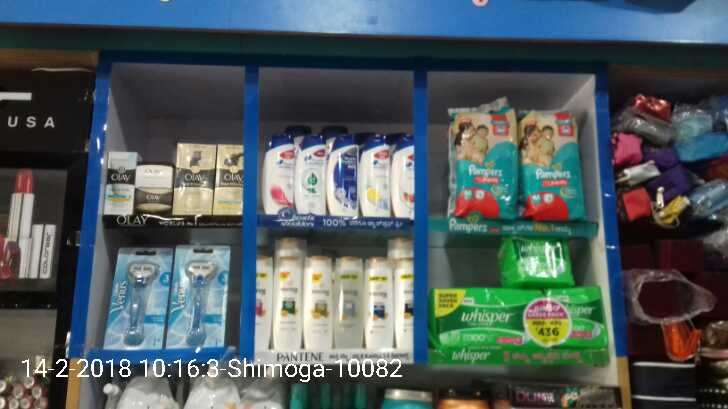venus: (165, 243, 229, 350), (115, 247, 162, 348)
